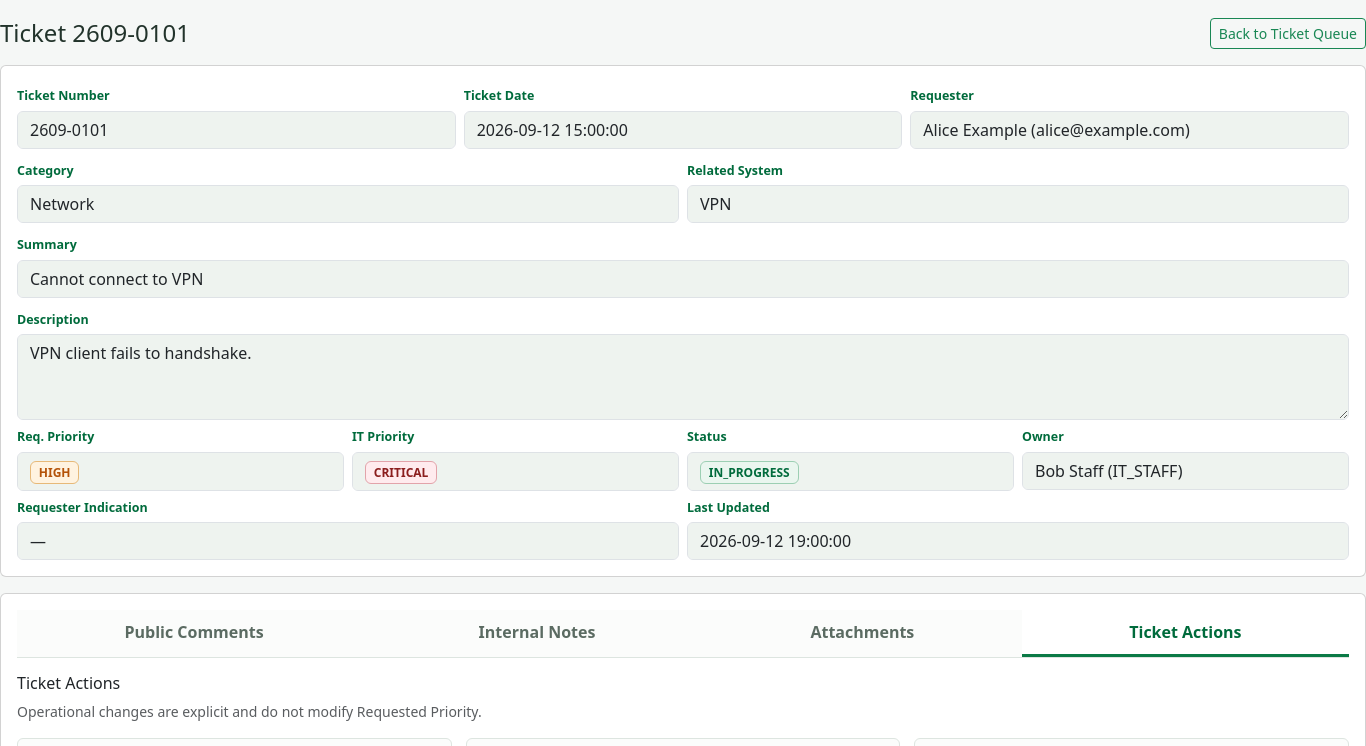
StaffTicketDetail (Lab 3 Issue #48, UI-08) › attachments tab lists requester files read-only with download and no upload
Expected: the heading "Ticket 2609-0101" is shown, x1=0 y1=19 x2=190 y2=48
Click the tab "Attachments". click: [862, 634]
box: x1=703 y1=610 x2=1022 y2=657
(page scrolled)
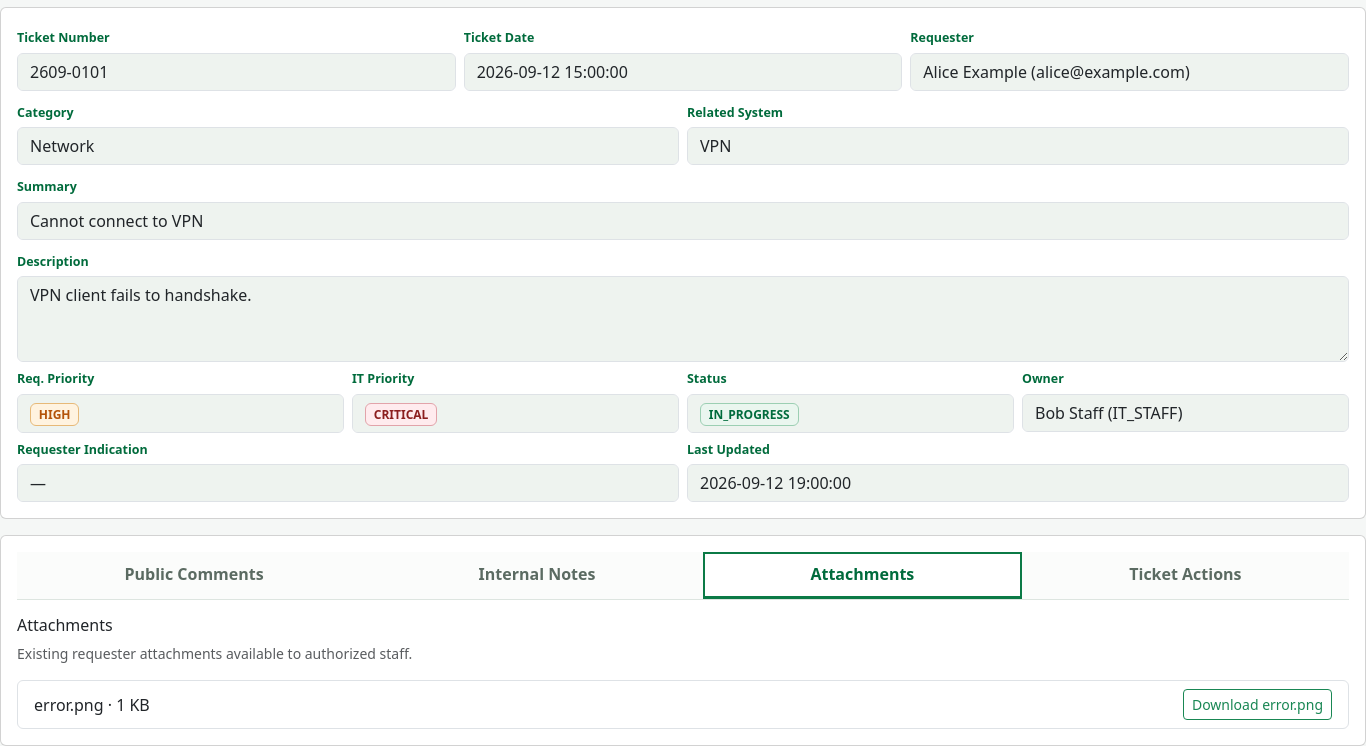
Expected: the text "error.png · 1 KB" is shown, x1=34 y1=693 x2=150 y2=717
Expected: the button "Download error.png" is shown, x1=1183 y1=690 x2=1332 y2=720
